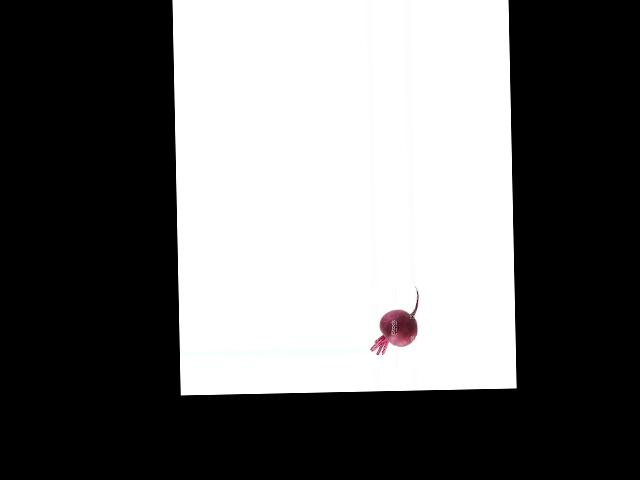beet: (369, 285, 419, 355)
